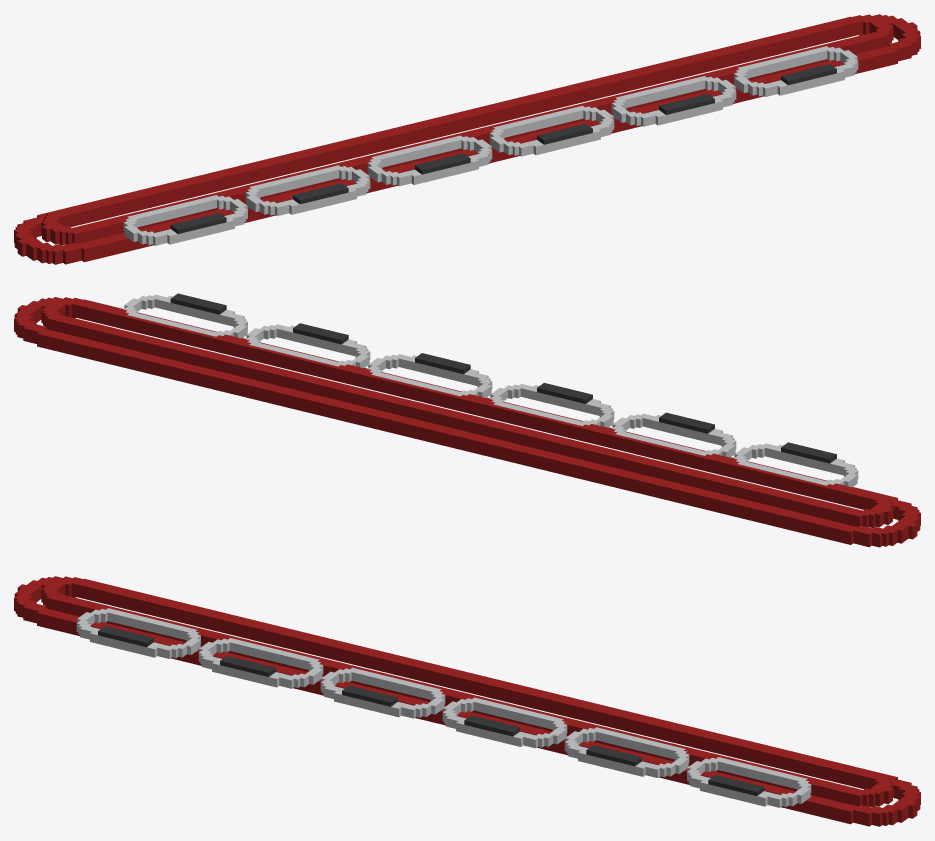
Rendered from storage_line.glb.
3 views of the same model, one above another, from view 1: azimuth 30°, elevation 25°; view 2: azimuth 150°, elevation 25°; view 3: azimuth 330°, elevation 25° (orthographic).
Parts seen in each view (by area): view 1: storage_line:compound; view 2: storage_line:compound; view 3: storage_line:compound.
Boxes of the visible parts, bbox=[...] form: storage_line:compound: bbox=[14, 14, 920, 264]; storage_line:compound: bbox=[14, 293, 920, 547]; storage_line:compound: bbox=[14, 576, 920, 826].
Size of the model in its own units: 0.44 by 0.012 by 0.054.
